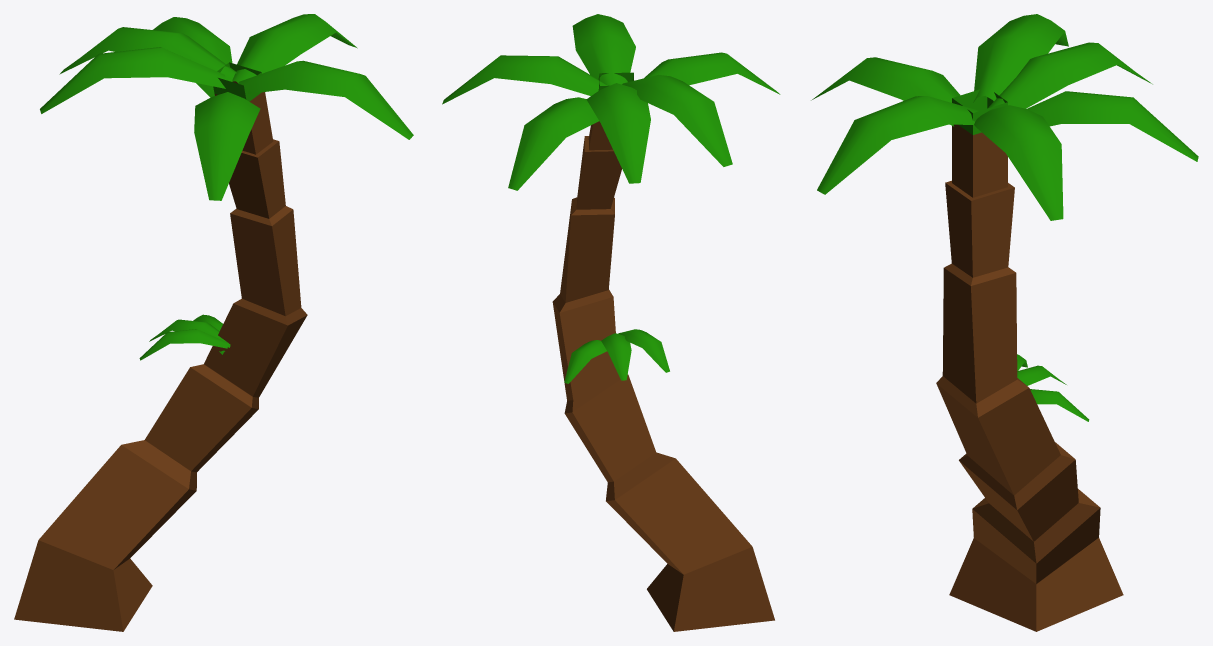
The model's file is lvl2-agac-1.fbx.
3 views of the same model, side by side, from view 1: azimuth 30°, elevation 25°; view 2: azimuth 150°, elevation 25°; view 3: azimuth 270°, elevation 25° (orthographic). The views are drawn at different scales.
Parts seen in each view (by area): view 1: lvl2.agac-1; view 2: lvl2.agac-1; view 3: lvl2.agac-1.
Boxes of the visible parts, x1,y1,x2,y2 form: lvl2.agac-1: (14, 14, 413, 631); lvl2.agac-1: (442, 14, 780, 631); lvl2.agac-1: (811, 14, 1198, 631).
Size of the model in its own units: 219 by 327 by 194.
